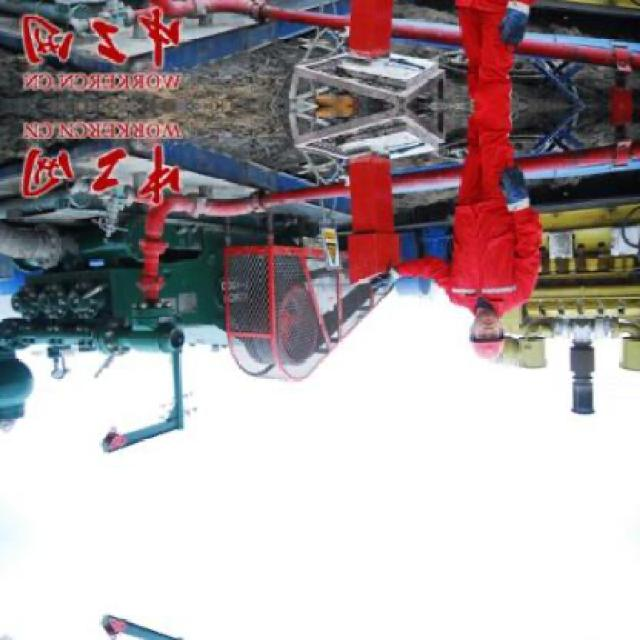con casco: (445, 288, 539, 374)
